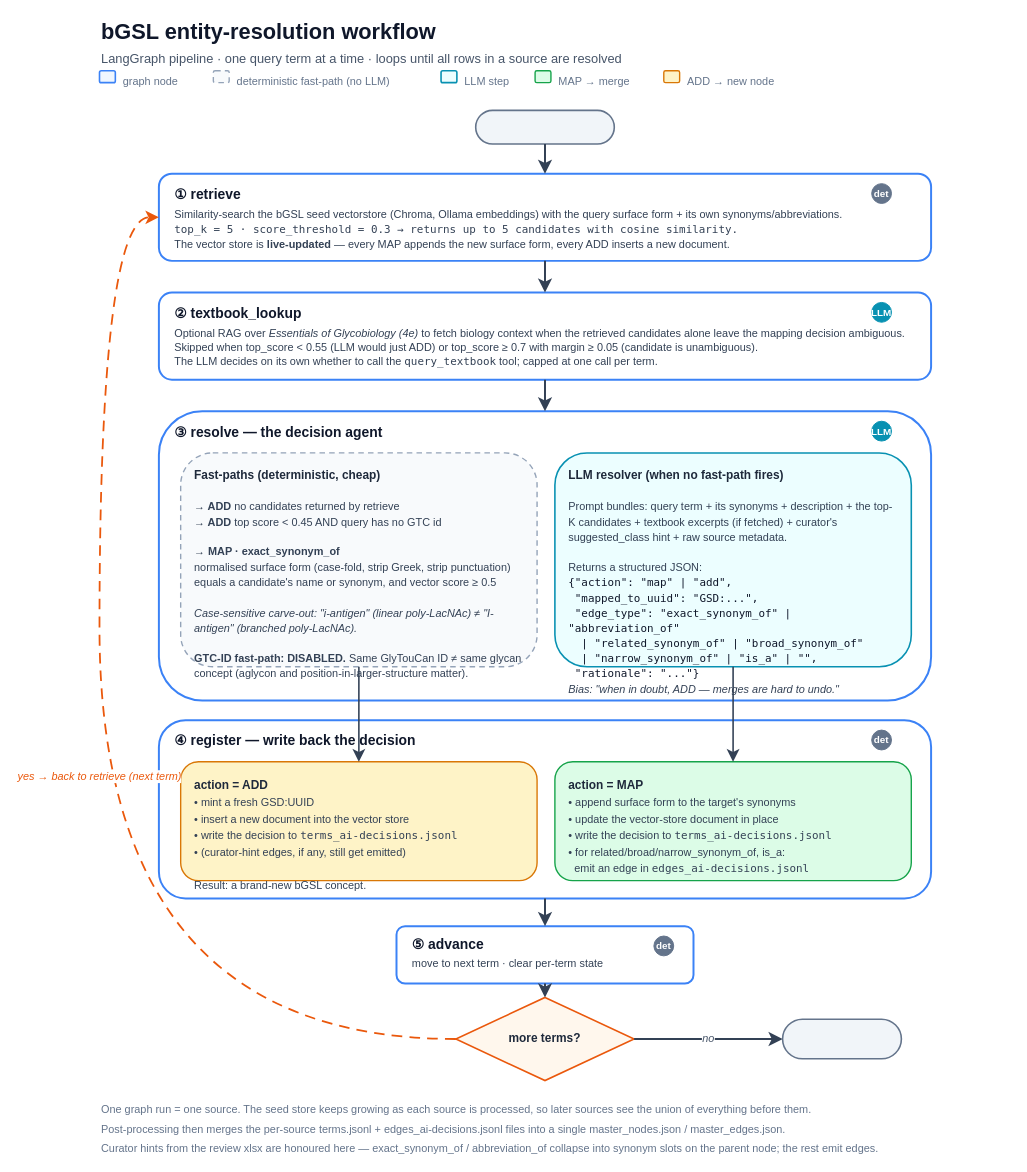
The diagram is 1027 pixels wide and 1172 high, and some of its shapes have lost their labels. Each missing label, with the centre of its shape:
END: point 841,1038
START · loop over terms: point 544,126
